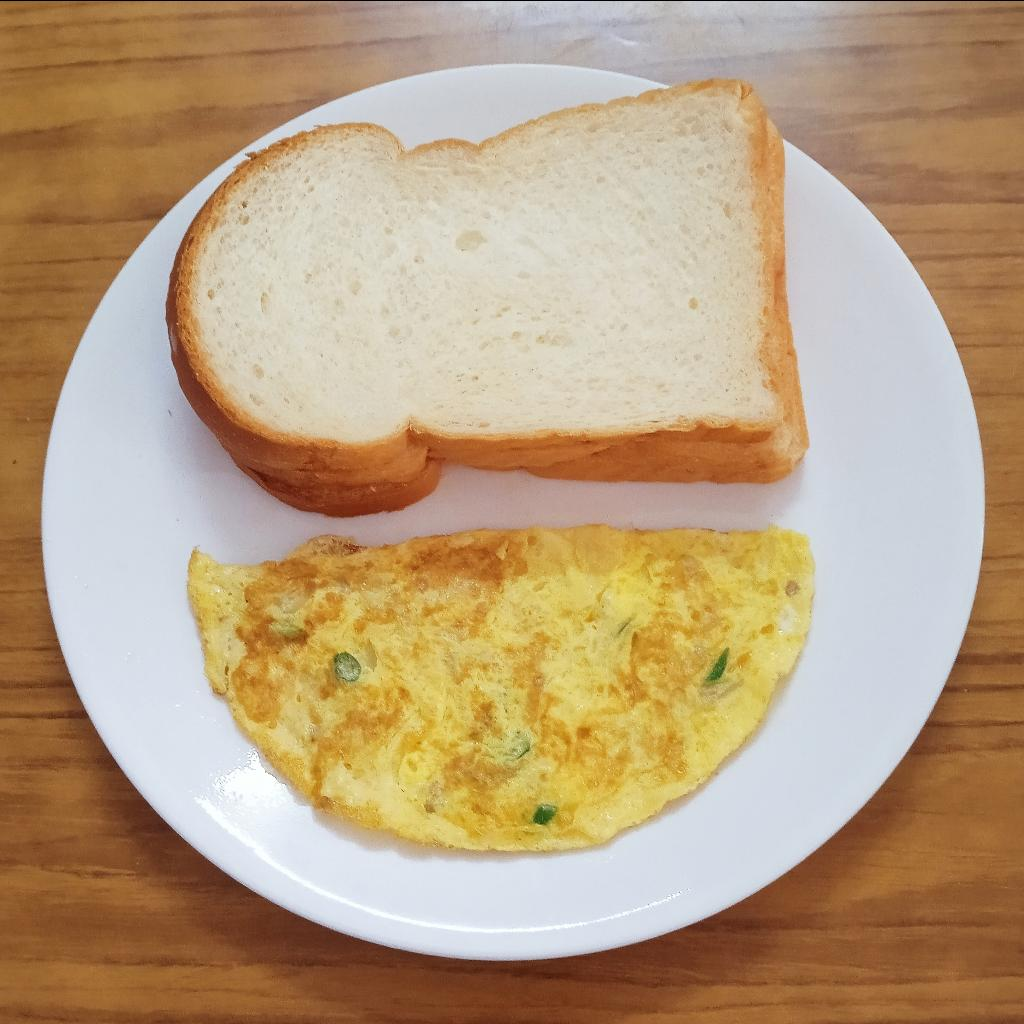bread: (164, 73, 812, 521)
egg-poached: (186, 525, 820, 856)
